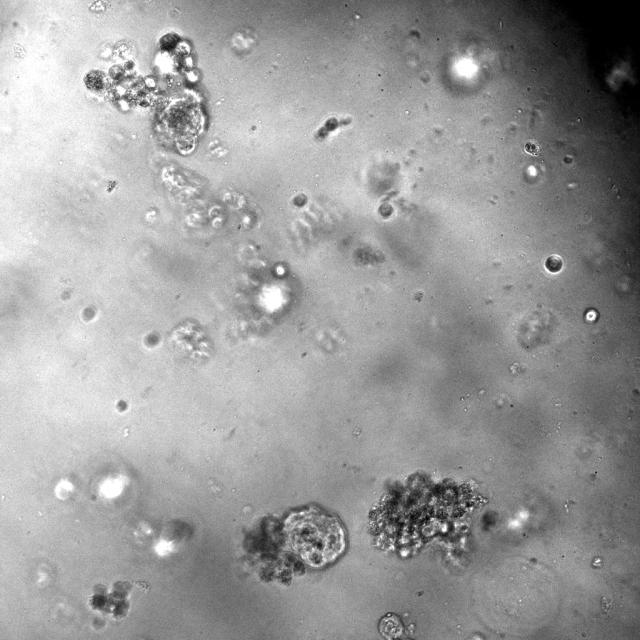organoid: (81, 31, 211, 157), (368, 471, 487, 570), (244, 504, 347, 584), (160, 163, 259, 237), (234, 244, 295, 336), (88, 580, 132, 631), (169, 319, 211, 358), (378, 612, 415, 639), (314, 115, 351, 140), (354, 244, 384, 266), (544, 254, 563, 273), (142, 331, 162, 349), (482, 509, 499, 530), (80, 305, 98, 323), (523, 139, 540, 156), (378, 200, 393, 217), (292, 192, 308, 207), (89, 0, 106, 14), (12, 43, 26, 58), (116, 400, 128, 412)
